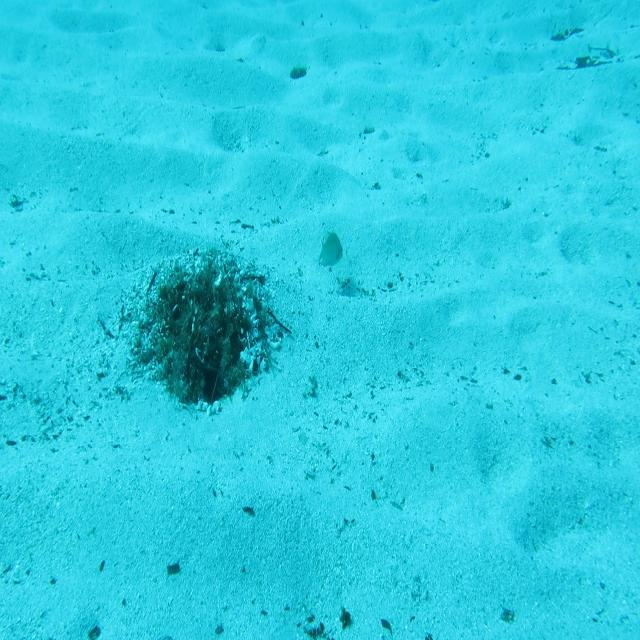MAN: (316, 224, 346, 274)
core_nest: (186, 291, 231, 325)
nest: (138, 237, 288, 408)
